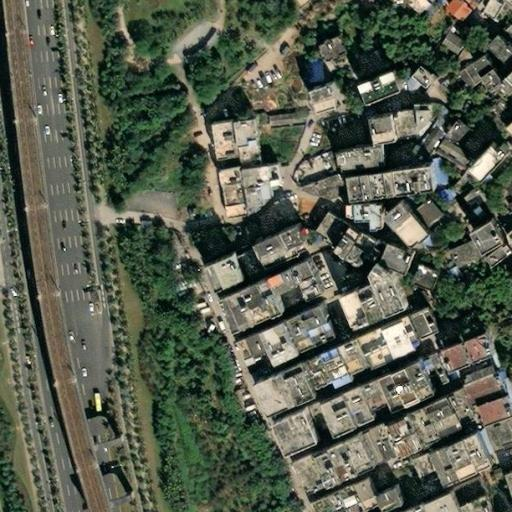building: (272, 369, 334, 427), (419, 390, 476, 445), (327, 440, 387, 489), (230, 290, 284, 340), (334, 392, 384, 444), (387, 313, 437, 361), (392, 208, 436, 257), (298, 309, 345, 354), (288, 418, 332, 464), (263, 234, 313, 274), (448, 337, 499, 376), (380, 272, 417, 322), (405, 365, 444, 412), (242, 167, 280, 214), (355, 290, 395, 334), (214, 260, 257, 300), (276, 328, 314, 373), (401, 421, 436, 466), (478, 225, 512, 270), (475, 149, 512, 190), (338, 231, 375, 271), (247, 337, 283, 378), (351, 67, 393, 101), (395, 171, 441, 202), (333, 353, 366, 395), (425, 136, 464, 171), (344, 148, 391, 177), (387, 377, 419, 419), (297, 263, 328, 306), (436, 449, 467, 492), (292, 160, 331, 194), (243, 77, 283, 110), (355, 177, 398, 207), (295, 458, 326, 498), (220, 171, 246, 218), (365, 334, 398, 371), (312, 214, 344, 252), (474, 56, 505, 92), (461, 375, 497, 406), (476, 398, 512, 429), (459, 446, 487, 485), (273, 287, 299, 328), (214, 125, 241, 164), (481, 95, 512, 128), (349, 345, 378, 379), (414, 459, 442, 494), (445, 241, 478, 270), (420, 354, 446, 390), (474, 436, 497, 476), (386, 248, 417, 277), (483, 422, 511, 454), (319, 361, 345, 395), (486, 35, 512, 68), (308, 83, 336, 113), (406, 130, 434, 160), (445, 0, 476, 27), (372, 385, 397, 415), (411, 63, 437, 91), (376, 121, 402, 149), (359, 209, 386, 235), (316, 38, 343, 64), (412, 200, 437, 228), (482, 0, 512, 23), (247, 253, 271, 281), (431, 31, 457, 56), (408, 265, 433, 291), (360, 46, 384, 73), (442, 122, 466, 149), (356, 478, 380, 505), (315, 494, 350, 512), (285, 275, 310, 300), (456, 132, 480, 158), (239, 124, 262, 151), (492, 447, 512, 477), (259, 113, 296, 129), (448, 65, 471, 90), (386, 492, 414, 512), (411, 106, 432, 132), (491, 176, 512, 201), (432, 498, 467, 512), (398, 112, 415, 140), (240, 149, 261, 171), (367, 242, 386, 266), (447, 202, 467, 223), (465, 497, 491, 512), (496, 26, 512, 48), (298, 61, 313, 83), (502, 378, 512, 411), (499, 79, 512, 104), (502, 471, 512, 503), (442, 265, 460, 281), (347, 497, 365, 512), (502, 418, 512, 440), (463, 208, 477, 221), (348, 208, 359, 223), (504, 123, 512, 141), (450, 84, 461, 95), (504, 20, 512, 35), (505, 165, 512, 179), (506, 231, 512, 246), (507, 100, 512, 111)
